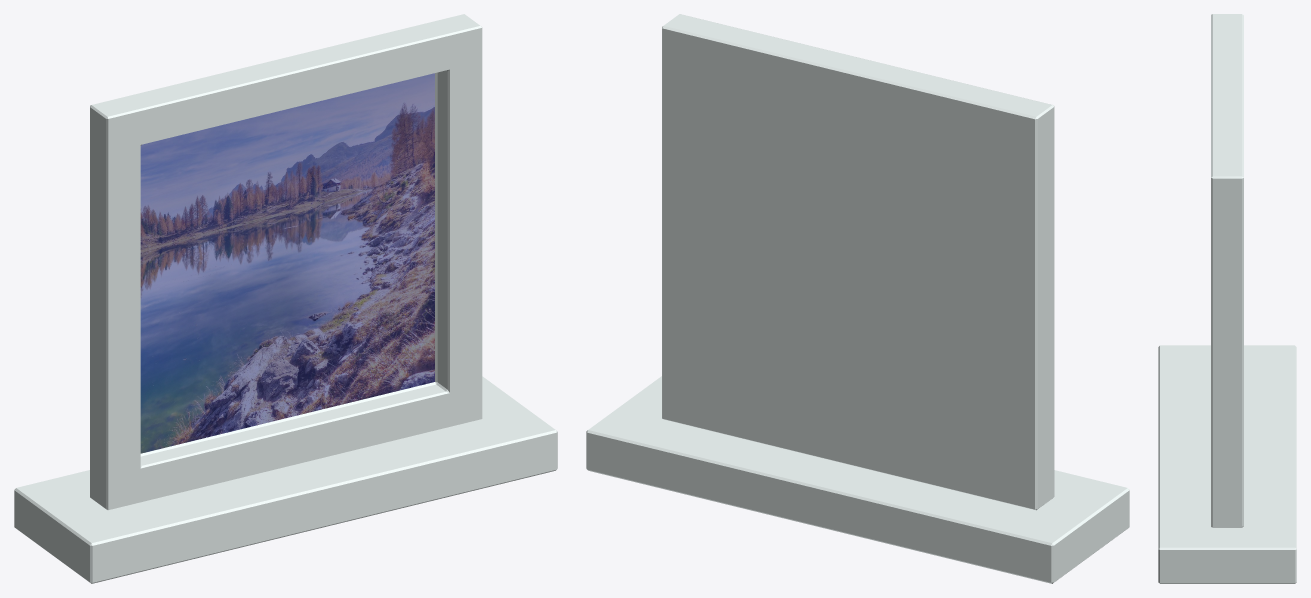
The model's file is aws_DeskPortraitD_01_visual.DAE.
3 renders of one model, left to right at view 1: azimuth 30°, elevation 25°; view 2: azimuth 150°, elevation 25°; view 3: azimuth 270°, elevation 25°, orthographic. The views are drawn at different scales.
Parts seen in each view (by area): view 1: aws_DeskPortraitD_01_visual; view 2: aws_DeskPortraitD_01_visual; view 3: aws_DeskPortraitD_01_visual.
Part boxes in pixels (x1,y1,x2,y2): aws_DeskPortraitD_01_visual: [14, 14, 557, 583]; aws_DeskPortraitD_01_visual: [586, 14, 1129, 583]; aws_DeskPortraitD_01_visual: [1158, 14, 1296, 583].
Size of the model in its own units: 14.81 by 4.26 by 13.14.
2 materials, 2 textured.
